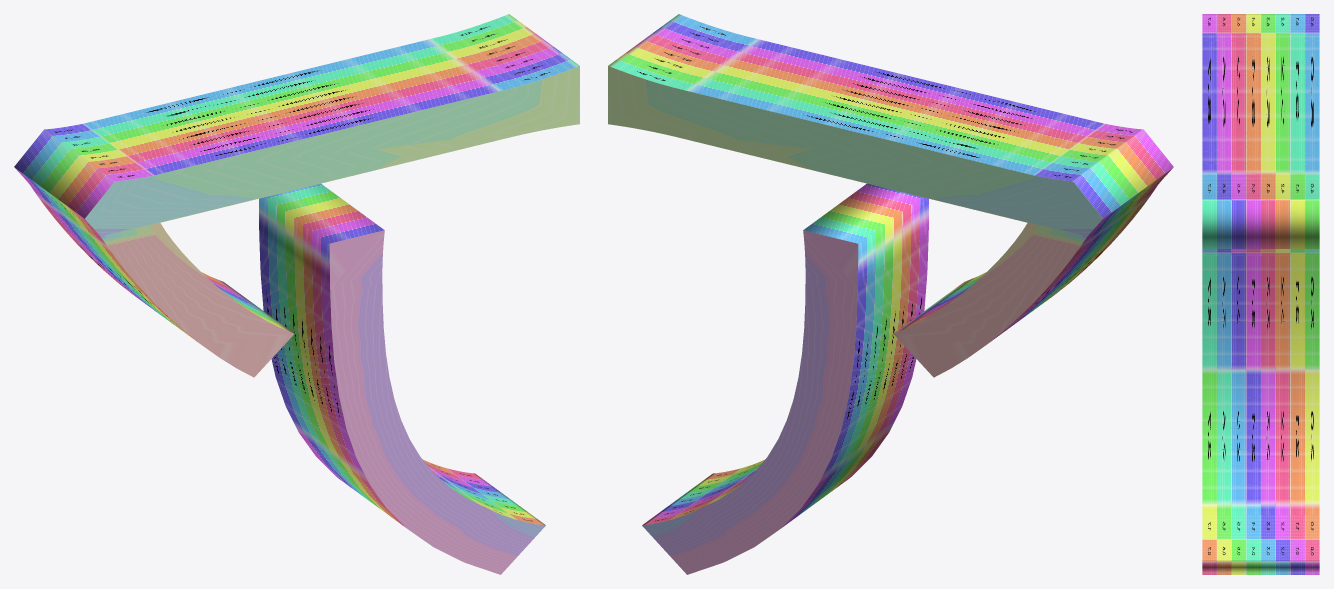
The model's file is ClearText_03.obj.
3 renders of one model, left to right at view 1: azimuth 30°, elevation 25°; view 2: azimuth 150°, elevation 25°; view 3: azimuth 270°, elevation 25°, orthographic. The views are drawn at different scales.
Visible parts, largest first — view 1: テキスト.ア; view 2: テキスト.ア; view 3: テキスト.ア.
Part boxes in pixels (bbox=[...]): テキスト.ア: bbox=[14, 14, 579, 574]; テキスト.ア: bbox=[608, 14, 1173, 574]; テキスト.ア: bbox=[1202, 14, 1319, 574].
Bounding box in the file's own units: 0.807 × 0.763 × 0.2.
1 material, 1 textured.
